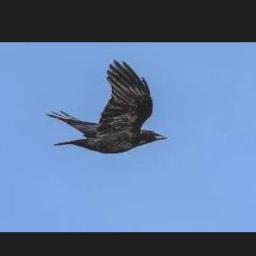Crow: (46, 59, 167, 153)
